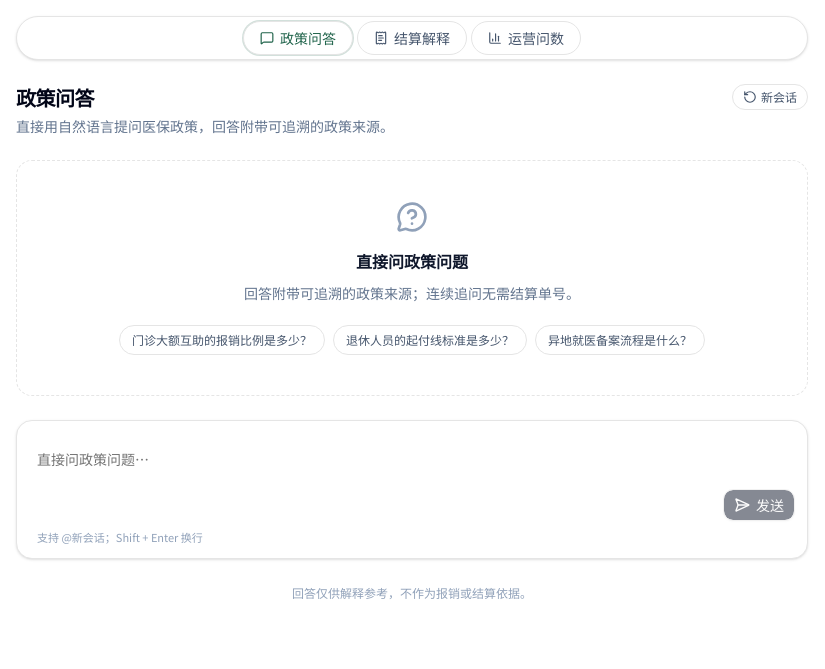
Test: PolicyQAWorkspace › switches to the settlement workspace without leaving the page
Click the button with test id "agent-switcher-settlement". click: (412, 38)
box: [357, 21, 467, 55]
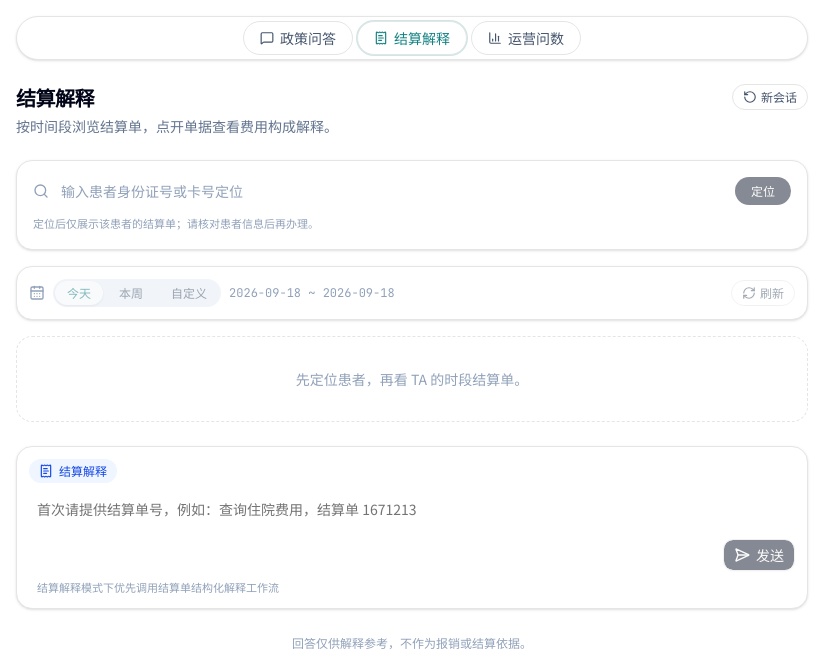
Now the element with test id "agent-workspace-settlement" is shown
Now the element with test id "agent-workspace-policy" is gone
Now the heading "结算解释" is shown, box [16, 83, 94, 112]
